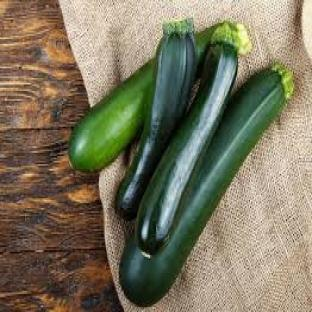Zucchini: (120, 65, 292, 305), (136, 23, 251, 255), (116, 20, 196, 219), (68, 61, 153, 172)
